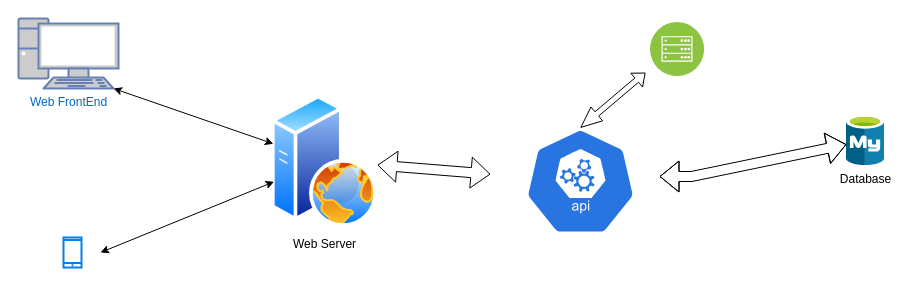
This 908x305 diagram has some shape labels left out. Each missing label, with the centre of its shape:
CM Library: the point at 677,49
Mobile FrontEnd: the point at 72,252
